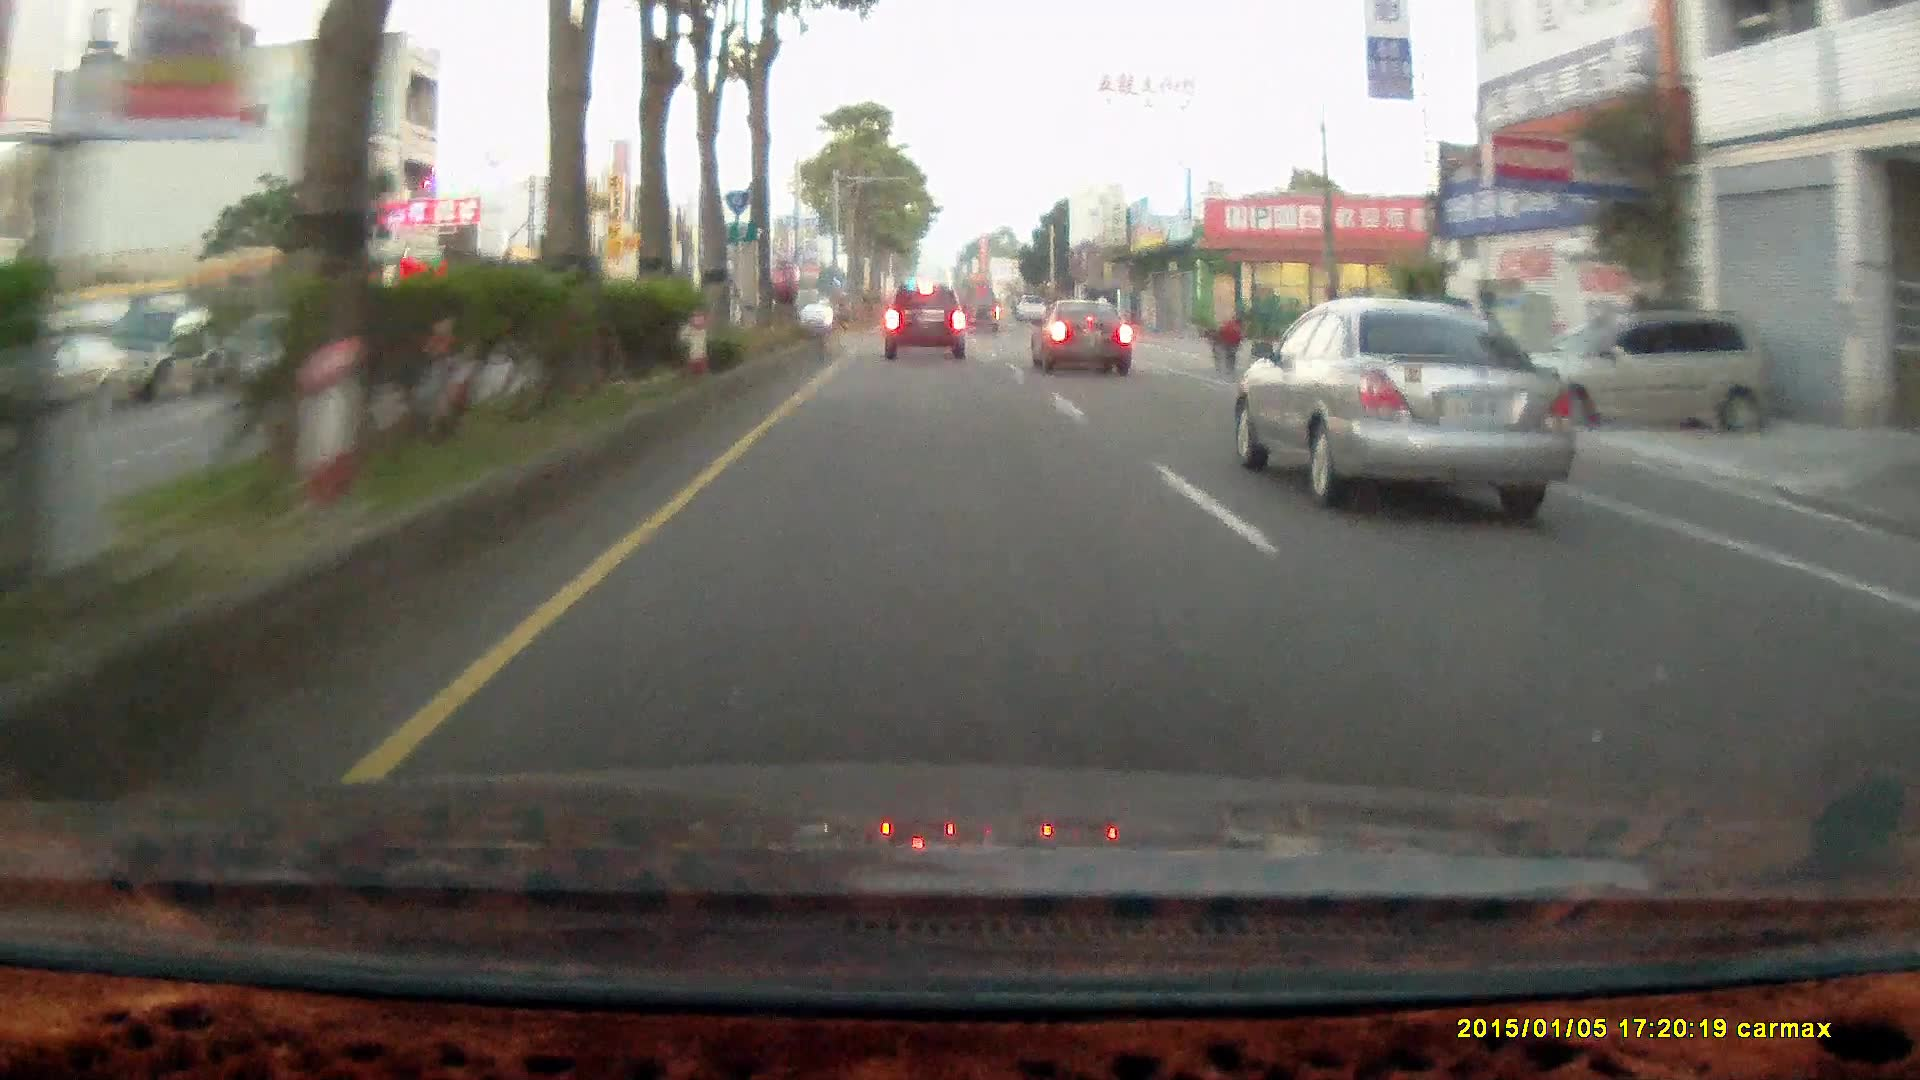pedestrian: (1218, 306, 1245, 378), (1222, 302, 1246, 367)
vehicle: (1238, 297, 1573, 505), (1509, 304, 1771, 430), (1523, 305, 1773, 431), (90, 304, 220, 401), (0, 327, 130, 421), (1032, 299, 1137, 379), (1029, 296, 1131, 374), (882, 279, 971, 359), (884, 285, 965, 360), (959, 283, 1000, 329)
